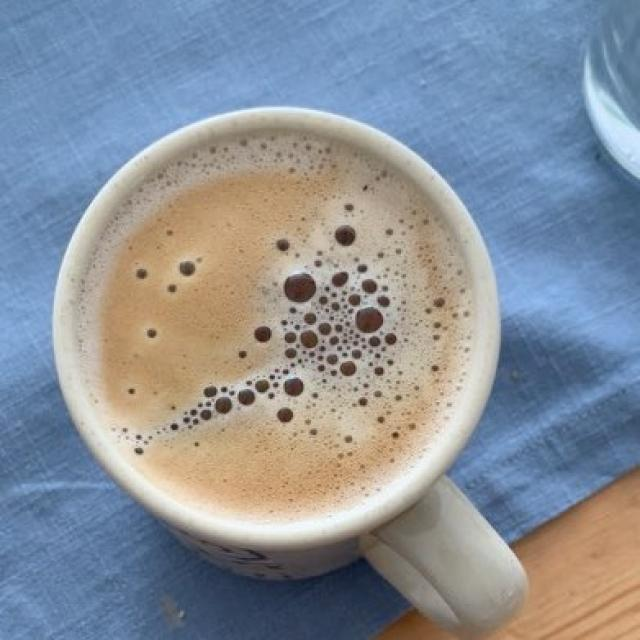coffee: (92, 152, 474, 513)
